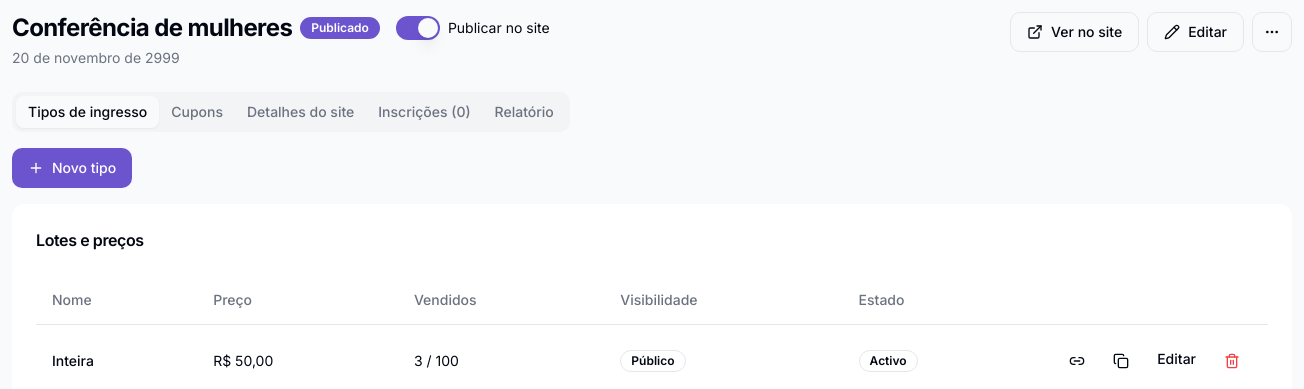
it: EventDetailPage — cabeçalho › switch 'Publicar no site' despublica o evento e avisa
This screenshot has width=1304, height=389.
Click the switch named "Publicar no site" at (418, 28), box top-left (396, 16), bottom-right (440, 40)
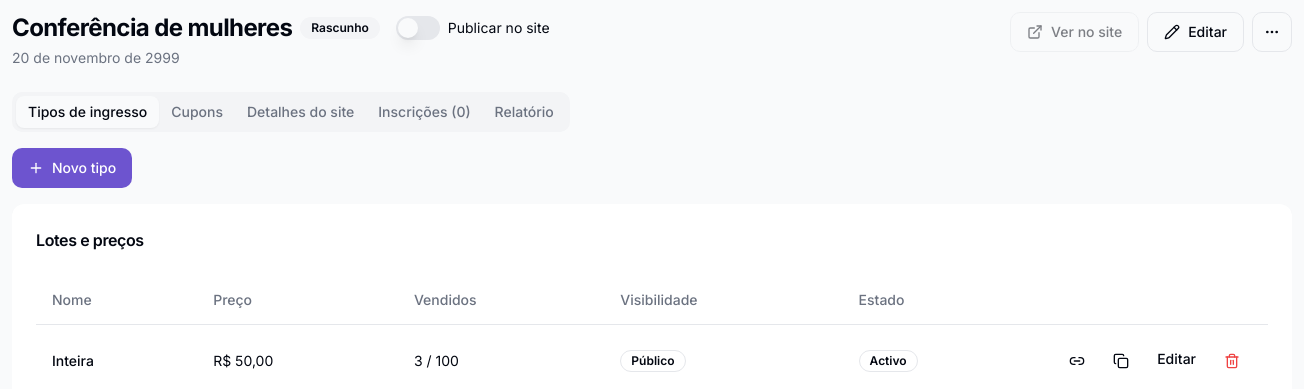
Expected: the switch named "Publicar no site" is not checked, top-left (396, 16), bottom-right (440, 40)
